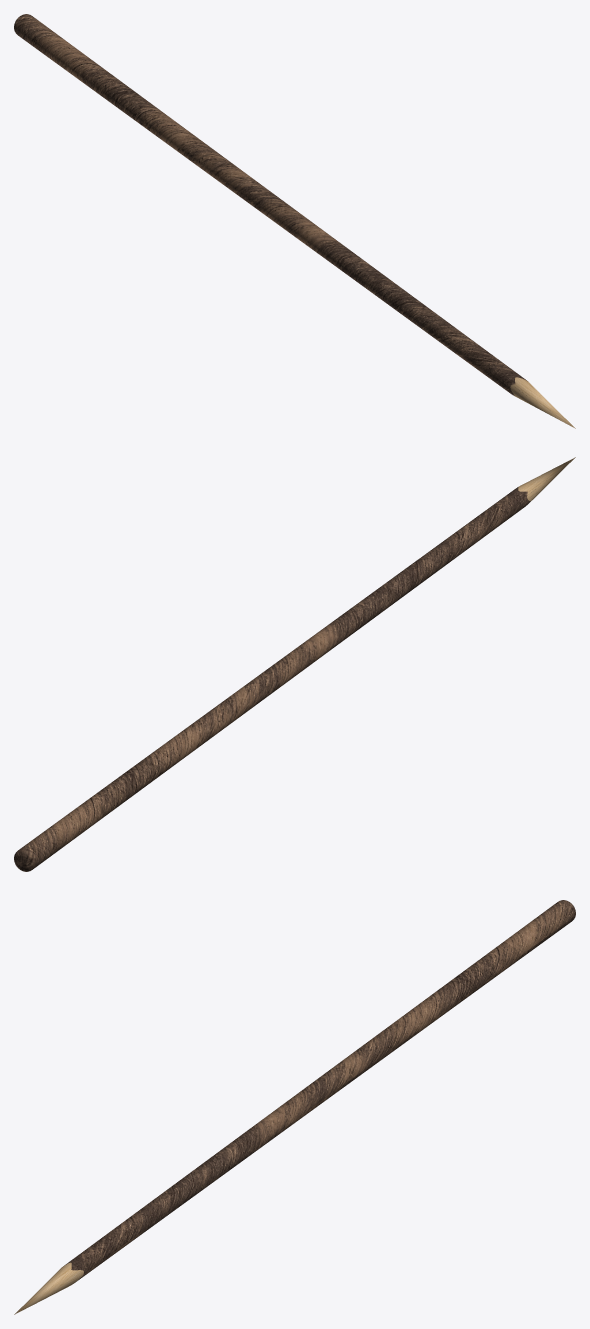
File: lanza_dormenia.glb
3 views of the same model, one above another, from view 1: azimuth 30°, elevation 25°; view 2: azimuth 150°, elevation 25°; view 3: azimuth 330°, elevation 25° (orthographic).
Parts seen in each view (by area): view 1: Cylinder; view 2: Cylinder; view 3: Cylinder.
Boxes of the visible parts, x1=… form: Cylinder: x1=14, y1=14, x2=575, y2=428; Cylinder: x1=14, y1=457, x2=575, y2=871; Cylinder: x1=14, y1=900, x2=575, y2=1314.
Size of the model in its own units: 0.3896 by 0.3896 by 17.82.
2 materials, 2 textured.
